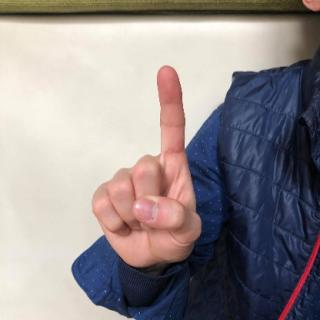BAA: (90, 64, 210, 270)
